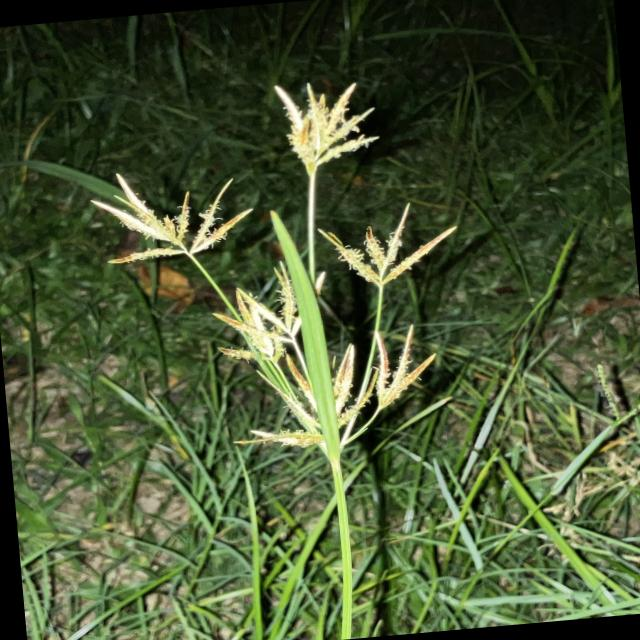cyperus: (72, 61, 483, 476)
